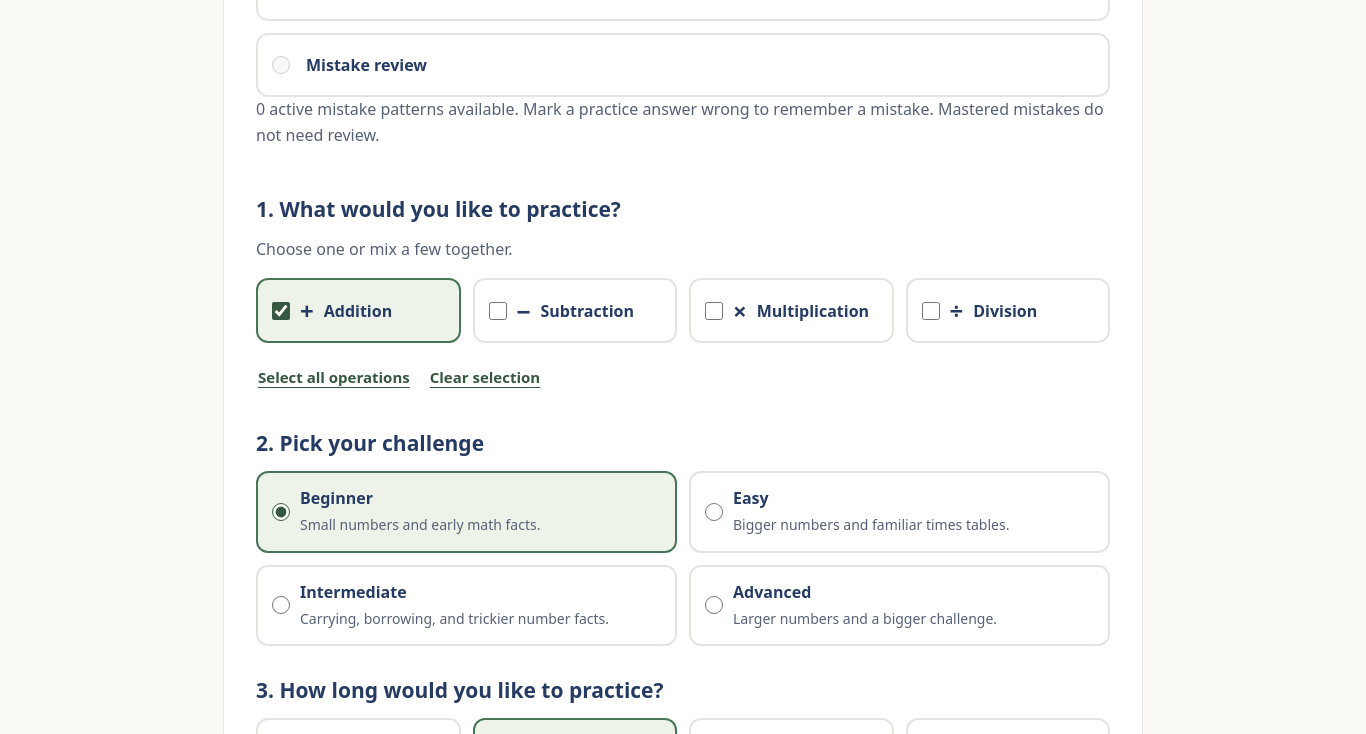
Practice configuration › disables starting with no operations and recovers when one is selected
(page scrolled)
Click the button "Clear selection" at {"x": 485, "y": 377}, box [428,355,542,399]
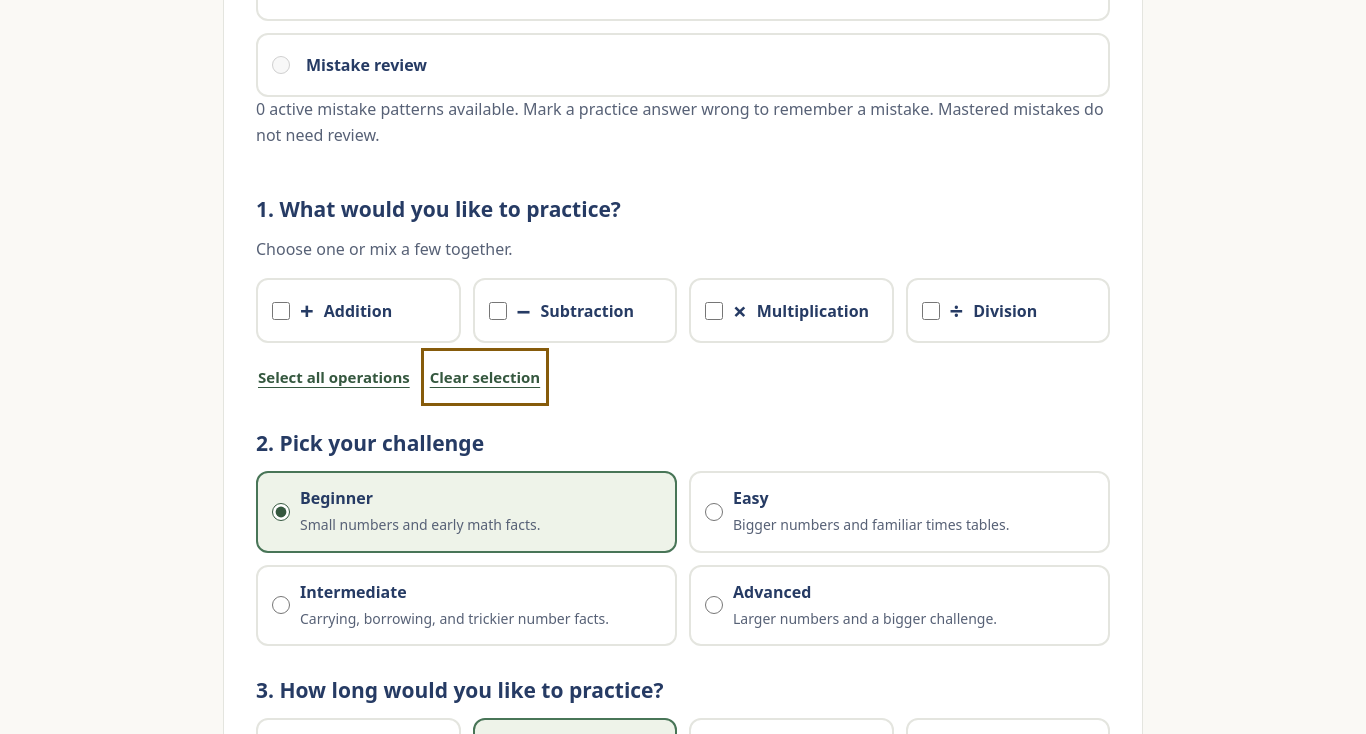
Click the checkbox labelled "Division" at {"x": 930, "y": 311}, box [922,302,940,320]
(page scrolled)
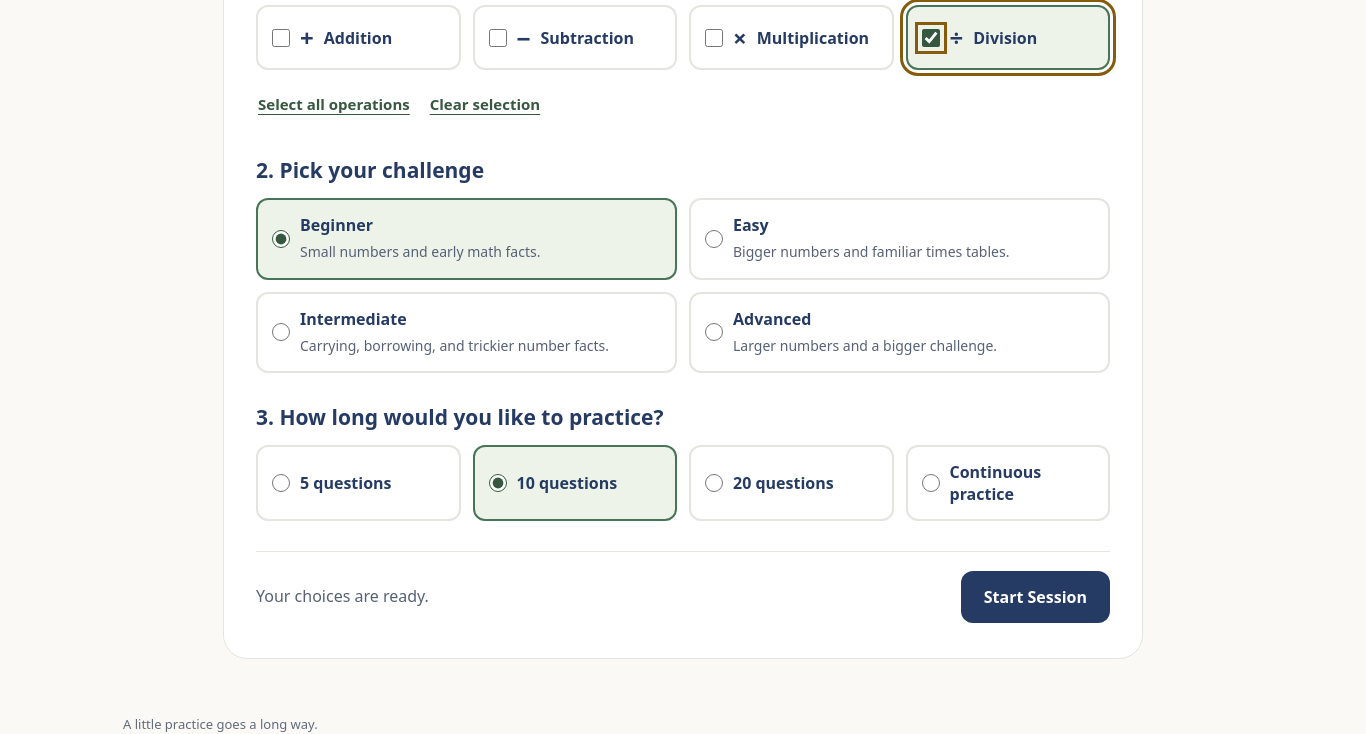
Expected: the button "Start Session" is enabled, [961,571,1110,623]
